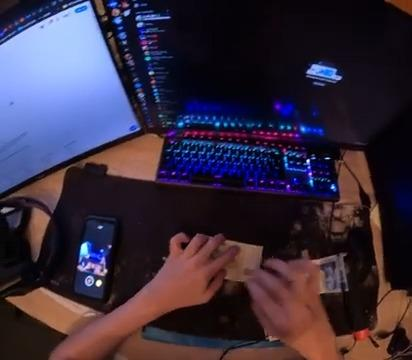50leva: (222, 242, 264, 284)
